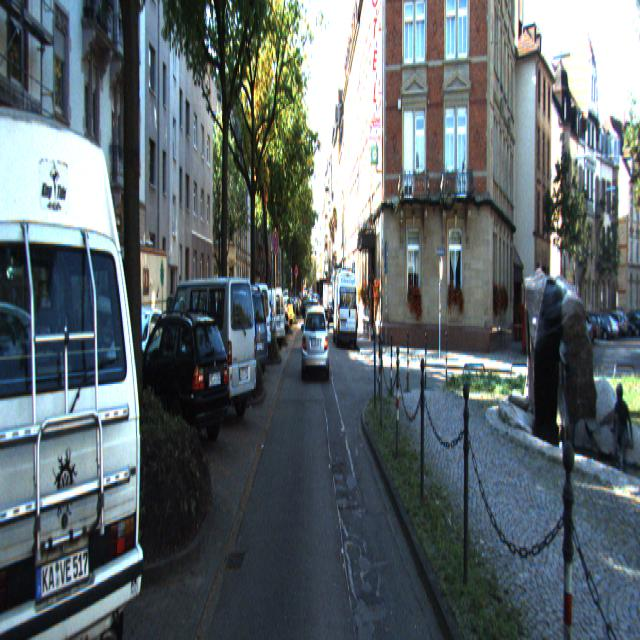Car: (0, 71, 161, 639), (123, 312, 233, 464), (162, 269, 260, 426), (93, 228, 167, 366), (207, 284, 271, 383), (225, 279, 272, 368), (249, 286, 286, 347), (302, 304, 330, 380), (333, 267, 358, 344), (304, 298, 321, 351)
